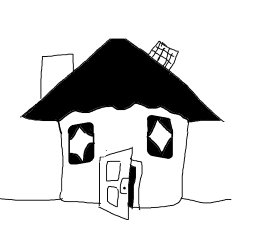bottom_placed_house: (0, 0, 259, 223)
chimney: (33, 45, 86, 109), (148, 33, 187, 74)
door: (93, 146, 147, 219)
open_window: (143, 108, 176, 166), (65, 121, 96, 169)
shaded_roof: (17, 32, 226, 127)
wall: (51, 103, 191, 219)
